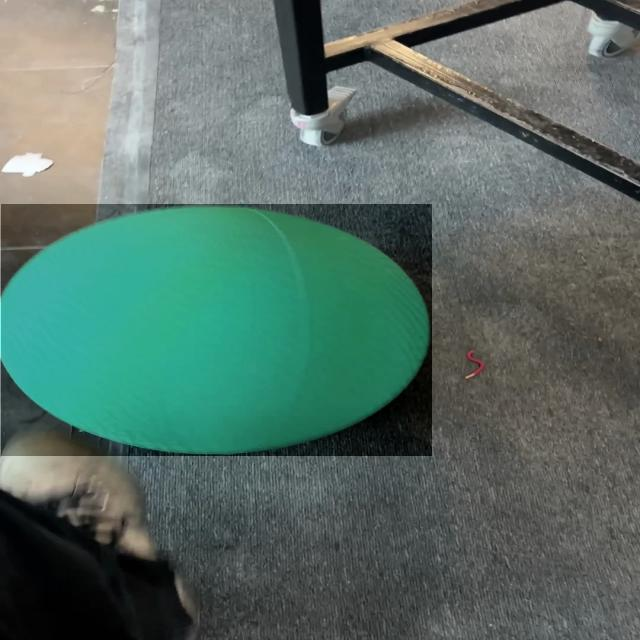Algae: (1, 204, 432, 456)
